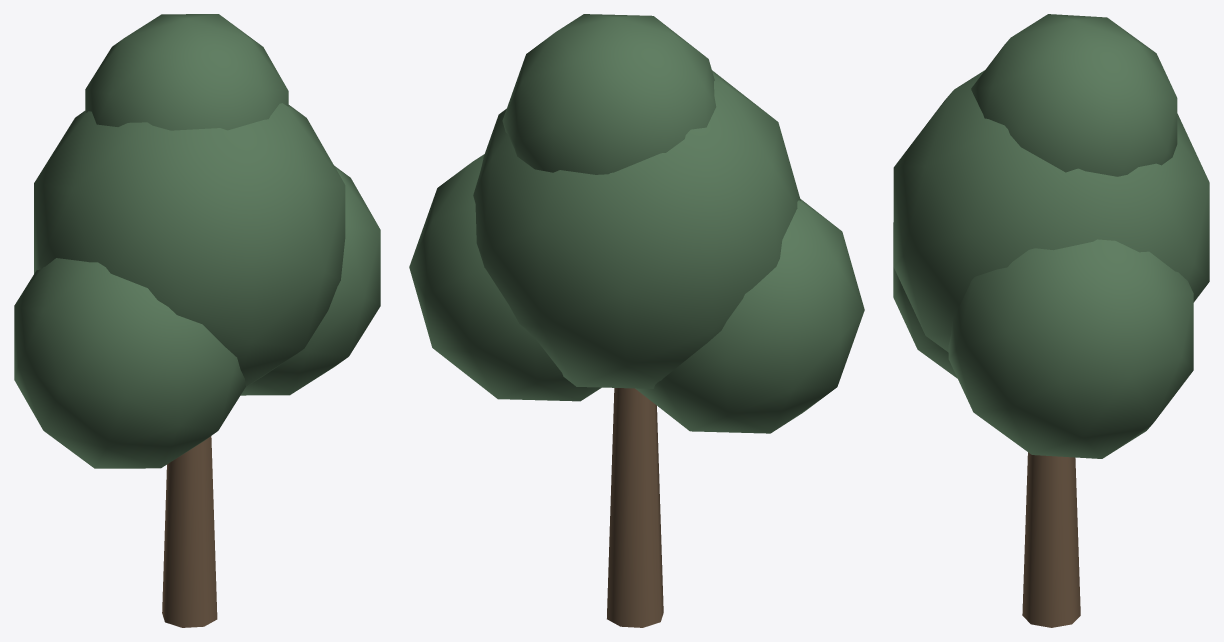
The model's file is tree-2.glb.
3 views of the same model, side by side, from view 1: azimuth 30°, elevation 25°; view 2: azimuth 150°, elevation 25°; view 3: azimuth 270°, elevation 25° (orthographic). The views are drawn at different scales.
Parts seen in each view (by area): view 1: tree-2-0; view 2: tree-2-0; view 3: tree-2-0.
Part boxes in pixels (bbox=[...]): tree-2-0: bbox=[14, 14, 380, 627]; tree-2-0: bbox=[409, 14, 864, 627]; tree-2-0: bbox=[893, 14, 1209, 627].
Size of the model in its own units: 1.37 by 2.04 by 0.9745.
